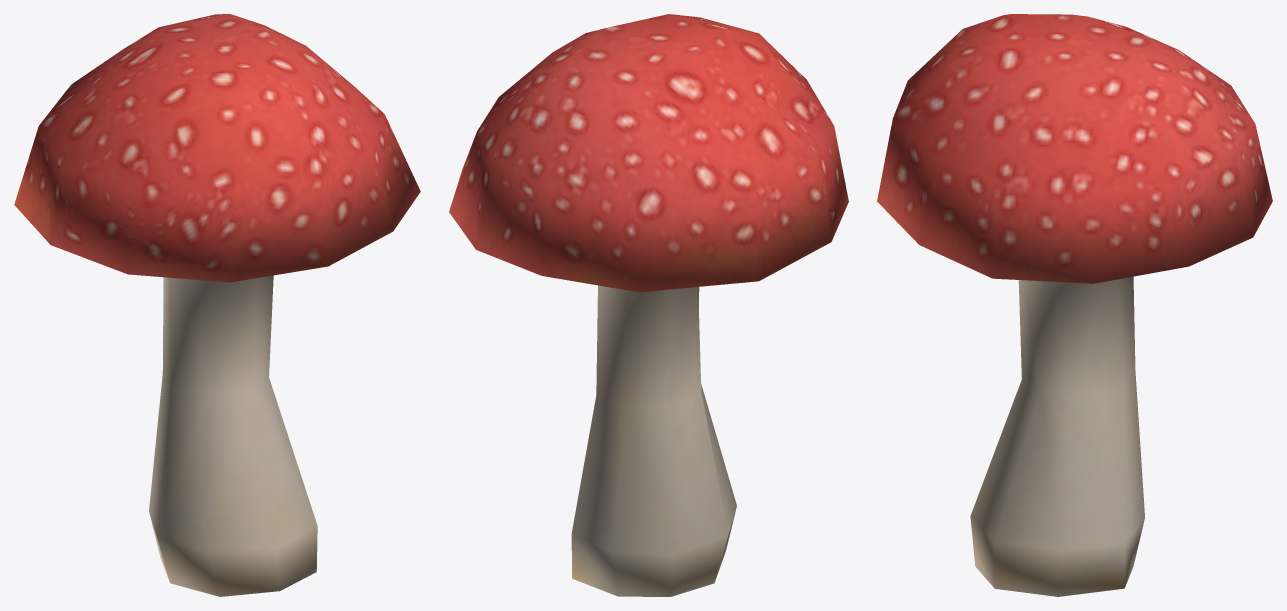
Rendered from SM_Mushroom_E.fbx.
3 renders of one model, left to right at view 1: azimuth 30°, elevation 25°; view 2: azimuth 150°, elevation 25°; view 3: azimuth 270°, elevation 25°, orthographic.
Parts seen in each view (by area): view 1: SM_Mushroom_E_LOD0; view 2: SM_Mushroom_E_LOD0; view 3: SM_Mushroom_E_LOD0.
Boxes of the visible parts, x1,y1,x2,y2 form: SM_Mushroom_E_LOD0: (14,14,420,596); SM_Mushroom_E_LOD0: (449,14,848,596); SM_Mushroom_E_LOD0: (877,14,1272,596).
Bounding box in the file's own units: 10.74 × 10.47 × 15.74.
1 material, 1 textured.
